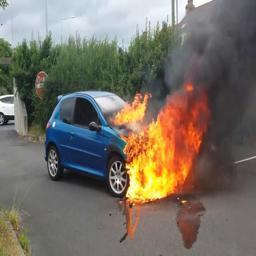fire: (120, 82, 211, 202), (109, 92, 149, 126)
